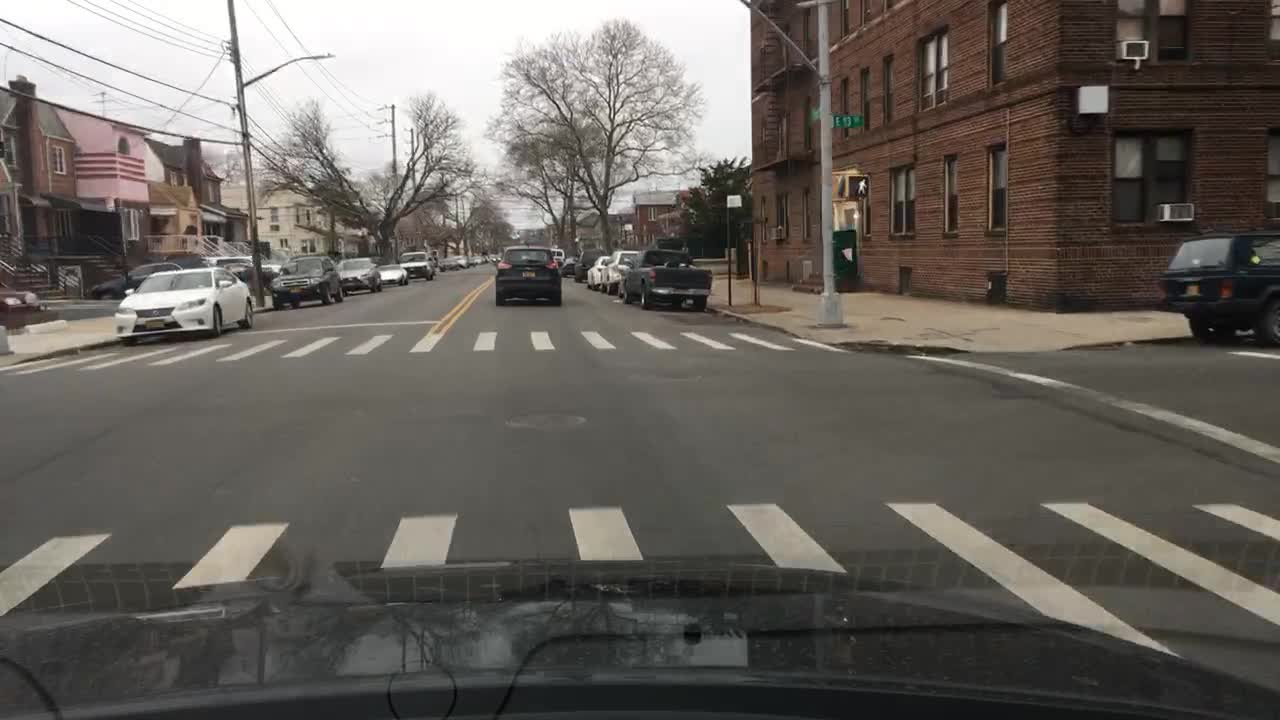car: (1153, 228, 1278, 352), (108, 264, 255, 345), (493, 243, 565, 308), (268, 250, 346, 309), (85, 259, 186, 299), (334, 254, 385, 295), (597, 248, 642, 293), (220, 259, 275, 292), (201, 253, 283, 274), (396, 248, 440, 282), (570, 247, 608, 284), (584, 253, 616, 293), (376, 263, 412, 287), (559, 253, 582, 277), (437, 255, 462, 272), (548, 246, 567, 266), (453, 252, 473, 270), (469, 252, 485, 265), (484, 252, 498, 264), (479, 252, 491, 265), (466, 255, 479, 266), (492, 254, 504, 263)
traffic light: (841, 171, 874, 201)
traffic sign: (832, 111, 864, 129)
truck: (616, 246, 714, 313)
